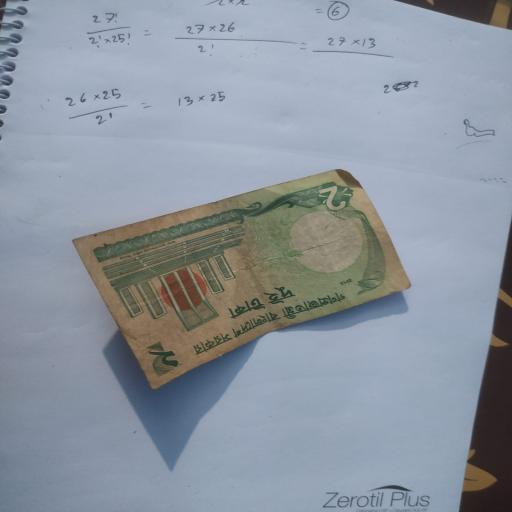2taka: (77, 171, 413, 397)
